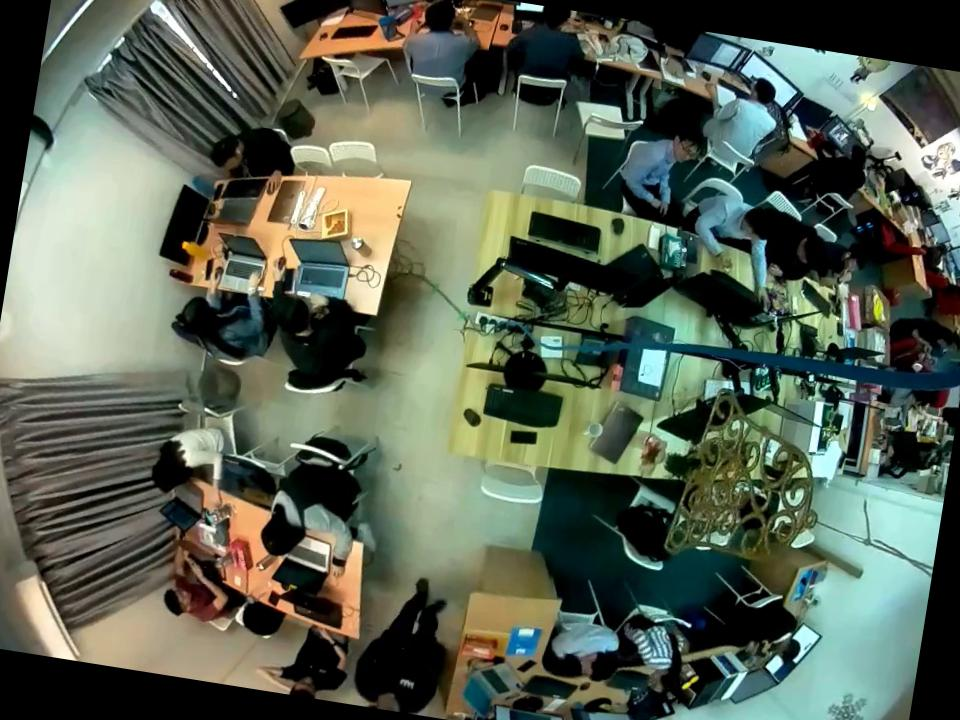employee_tag: (397, 676, 417, 693)
